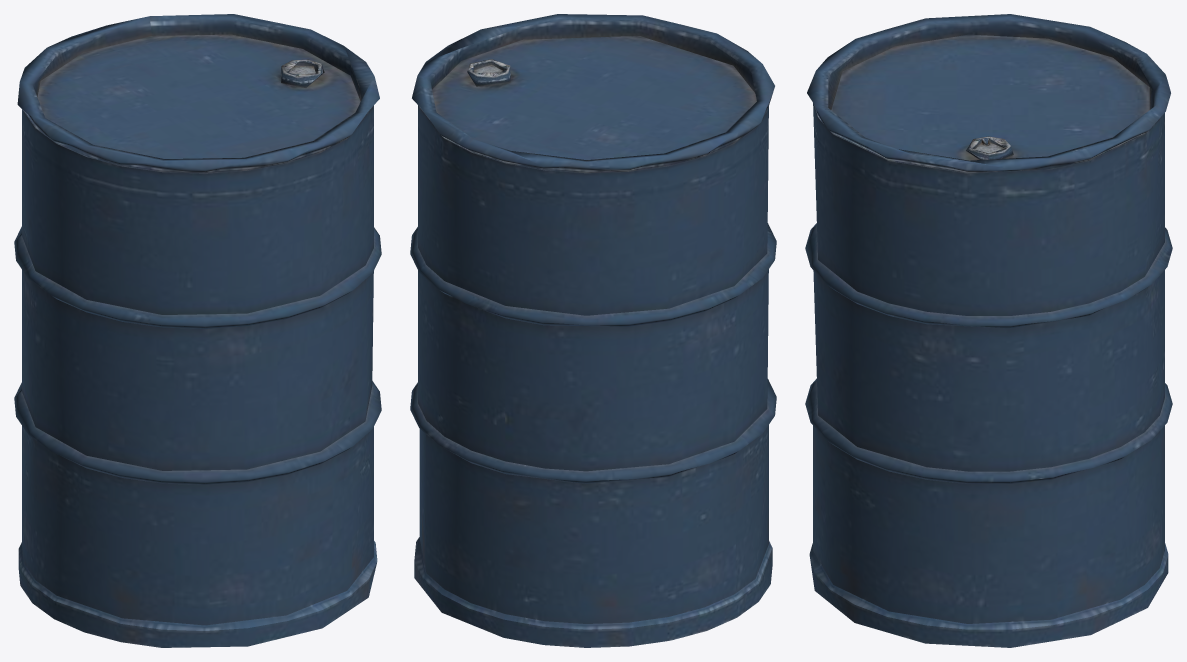
File: barrel_03.glb
The picture shows the model from 3 angles, left to right: view 1: azimuth 30°, elevation 25°; view 2: azimuth 150°, elevation 25°; view 3: azimuth 270°, elevation 25°; orthographic projection.
Parts seen in each view (by area): view 1: barrel_03; view 2: barrel_03; view 3: barrel_03.
Boxes of the visible parts, x1=… form: barrel_03: x1=14, y1=14, x2=381, y2=647; barrel_03: x1=410, y1=14, x2=776, y2=647; barrel_03: x1=805, y1=14, x2=1172, y2=647.
Bounding box in the file's own units: 0.6339 × 0.9305 × 0.6386.
Materials: 1 (1 with a texture image).
